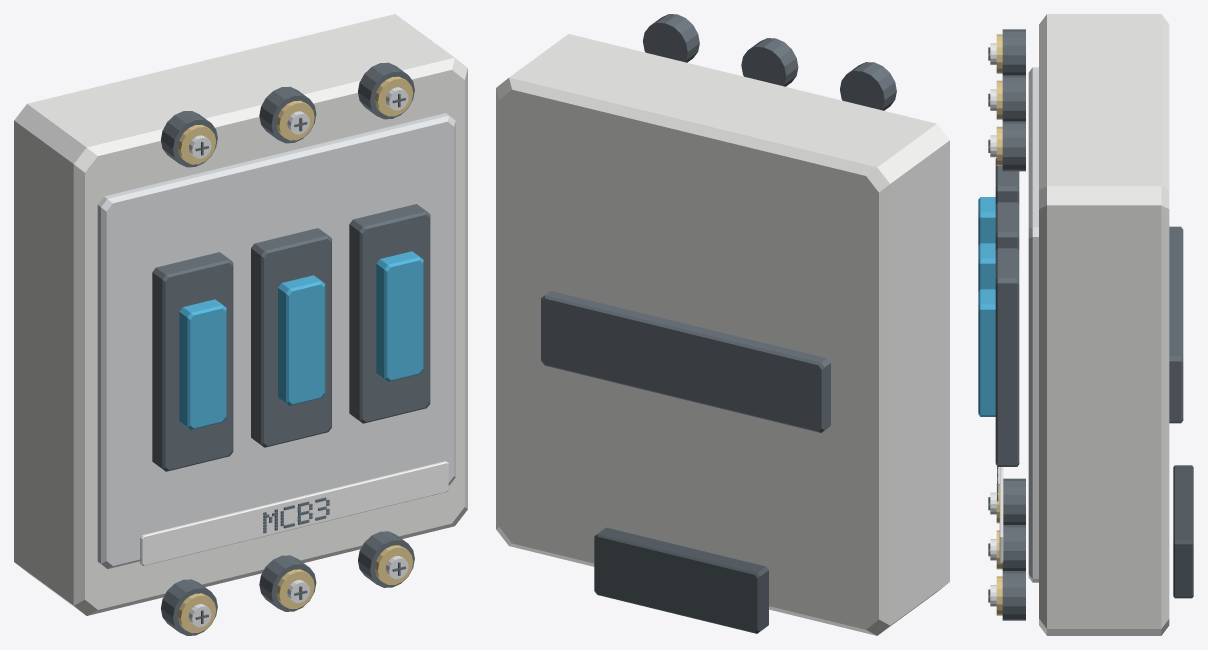
The model's file is mcb3P.glb.
The picture shows the model from 3 angles, left to right: view 1: azimuth 30°, elevation 25°; view 2: azimuth 150°, elevation 25°; view 3: azimuth 270°, elevation 25°; orthographic projection. The views are drawn at different scales.
Visible parts, largest first — view 1: mcb3P-preview; view 2: mcb3P-preview; view 3: mcb3P-preview.
Part boxes in pixels (box(x1,y1,x2,y2)): mcb3P-preview: box(14, 14, 467, 635); mcb3P-preview: box(496, 14, 949, 635); mcb3P-preview: box(978, 14, 1193, 635).
Size of the model in its own units: 2.75 by 3.44 by 1.36.
